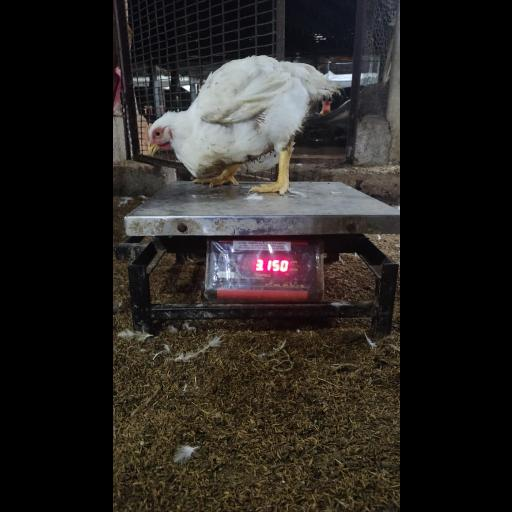chick: (145, 56, 341, 196)
